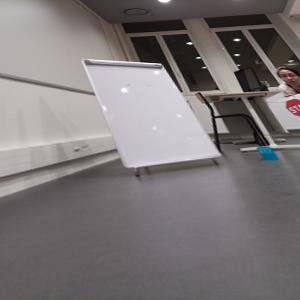stop: (286, 98, 300, 119)
